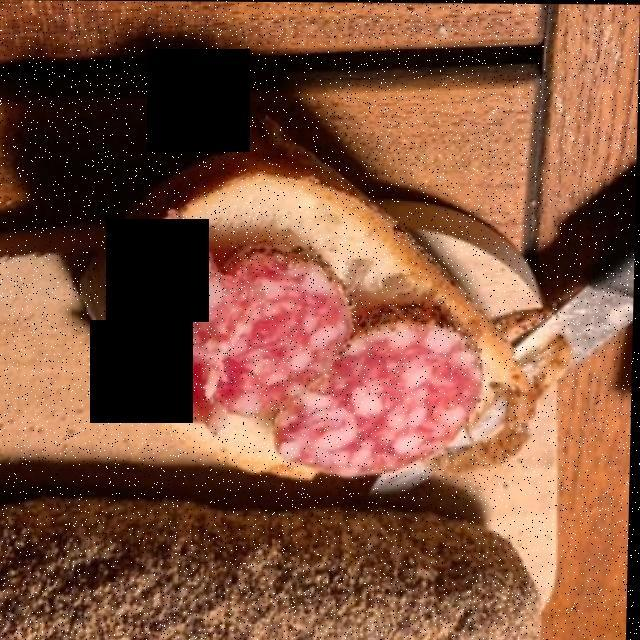bread: (96, 171, 533, 483)
salami: (112, 215, 481, 474)
